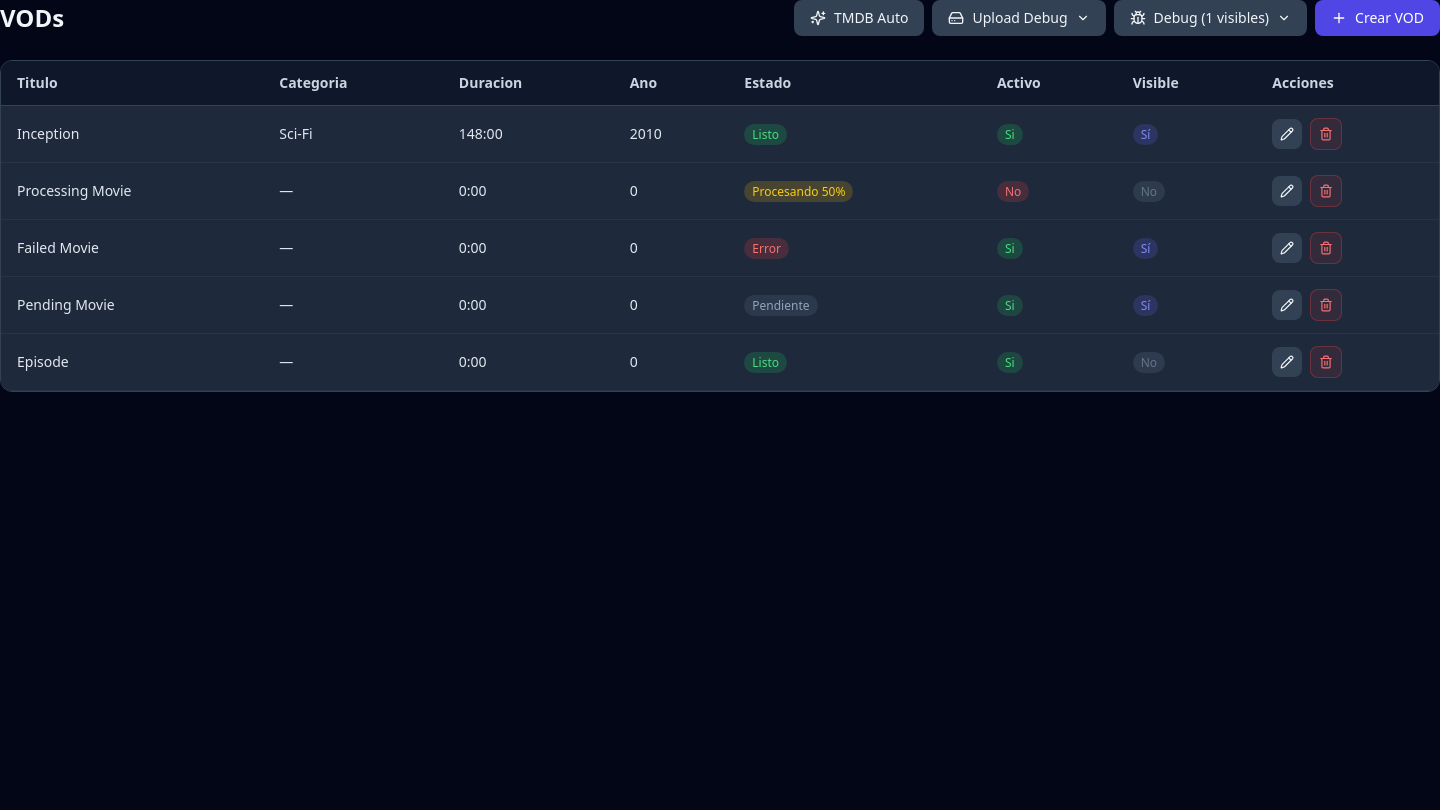
it: VODPage - branch coverage: upload diagnostics panel › opens upload diagnostics panel showing all directory states
The image size is (1440, 810).
Expected: the text "Inception" is shown, [1,106,263,162]
Click the button "Upload Debug" at (1019, 18), box [932,0,1106,36]
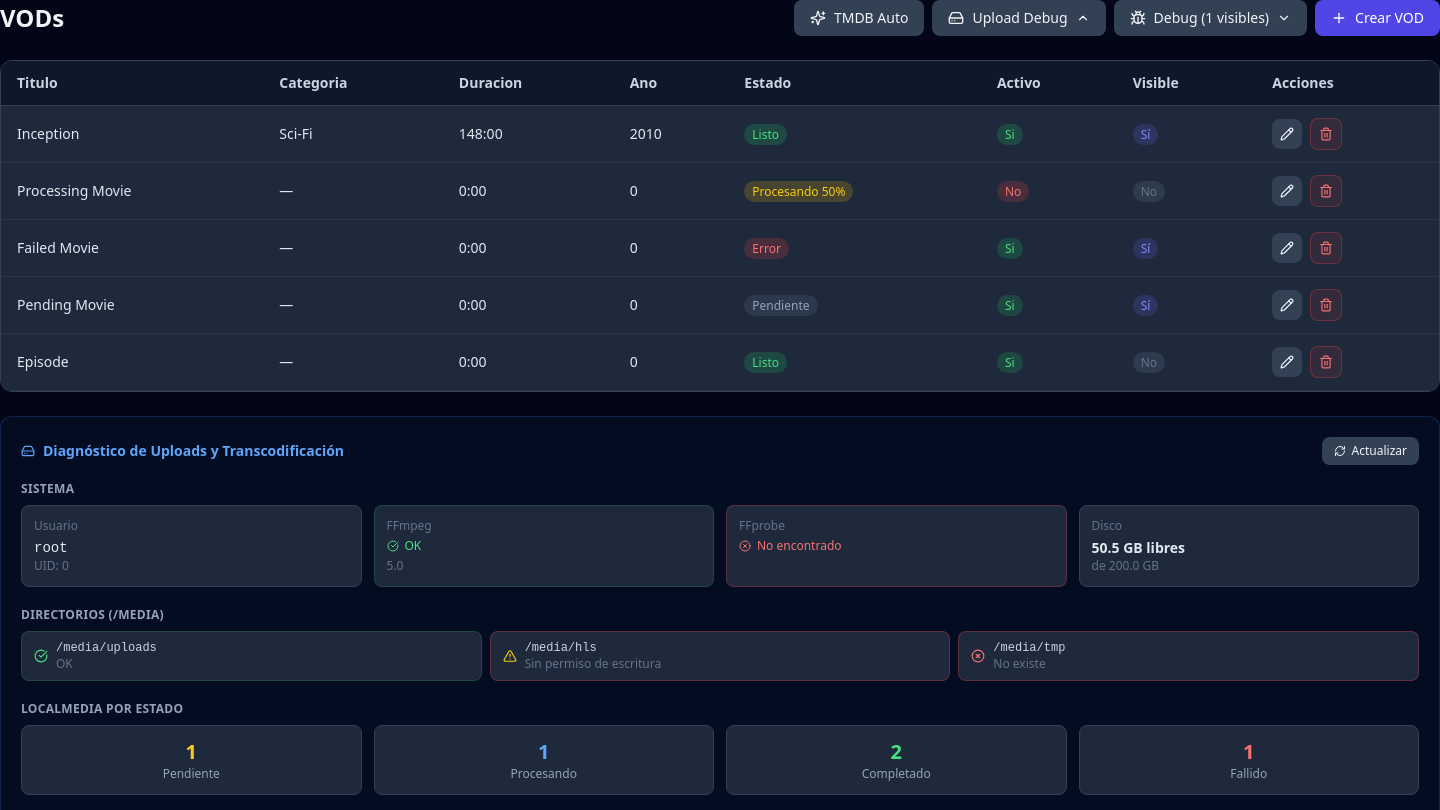
Expected: the heading "Diagnóstico de Uploads y Transcodificación" is shown, [21,441,344,461]
Expected: the text "/media/uploads" is shown, [56,640,157,656]
Expected: the text "/media/hls" is shown, [525,641,597,655]
